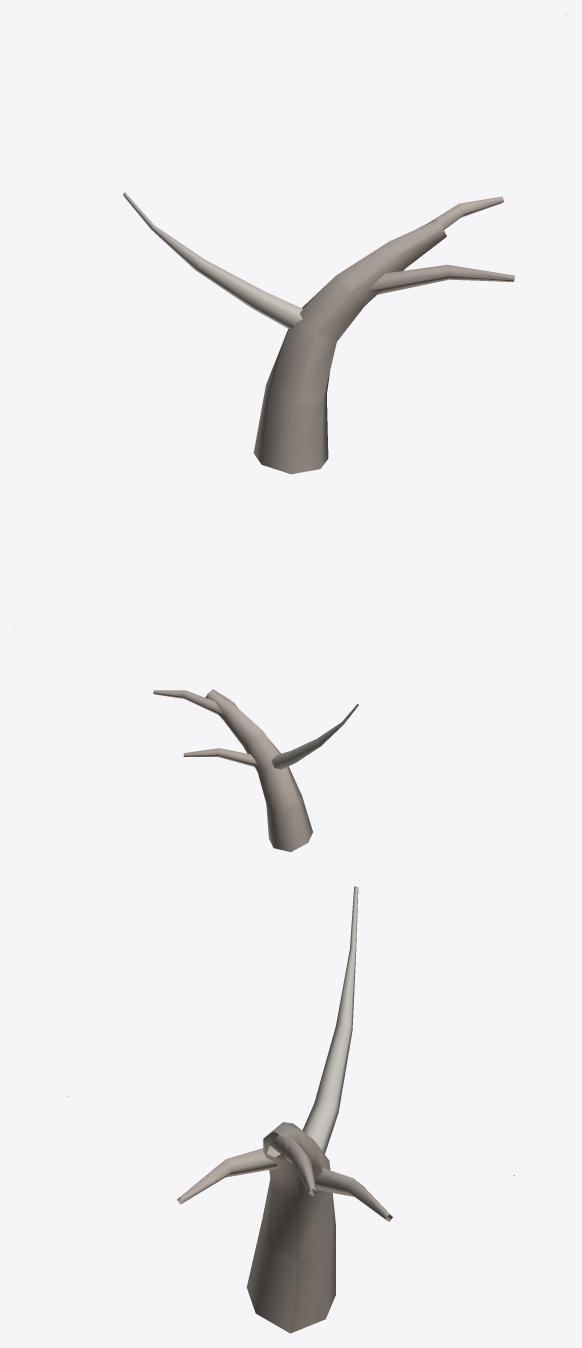
Rendered from Juniper2_bark.glb.
The picture shows the model from 3 angles, top to bottom: view 1: azimuth 30°, elevation 25°; view 2: azimuth 150°, elevation 25°; view 3: azimuth 270°, elevation 25°; orthographic projection. The views are drawn at different scales.
Visible parts, largest first — view 1: Juniper2_bark; view 2: Juniper2_bark; view 3: Juniper2_bark.
Boxes of the visible parts, <box> form: Juniper2_bark: <box>14,14,567,626</box>; Juniper2_bark: <box>14,655,567,857</box>; Juniper2_bark: <box>67,886,514,1333</box>.
Bounding box in the file's own units: 9.28 × 3.53 × 4.07.
